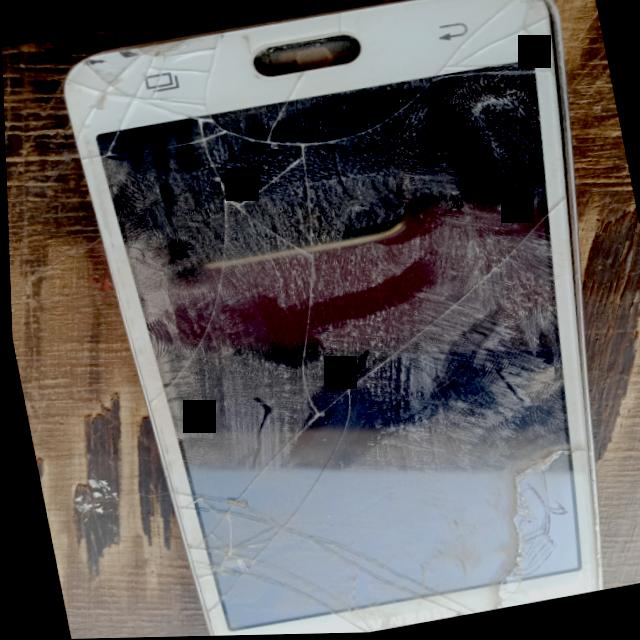Crack: (53, 46, 585, 290), (222, 305, 611, 629), (145, 470, 586, 621)
